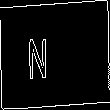N_N: (44, 29, 66, 81)
